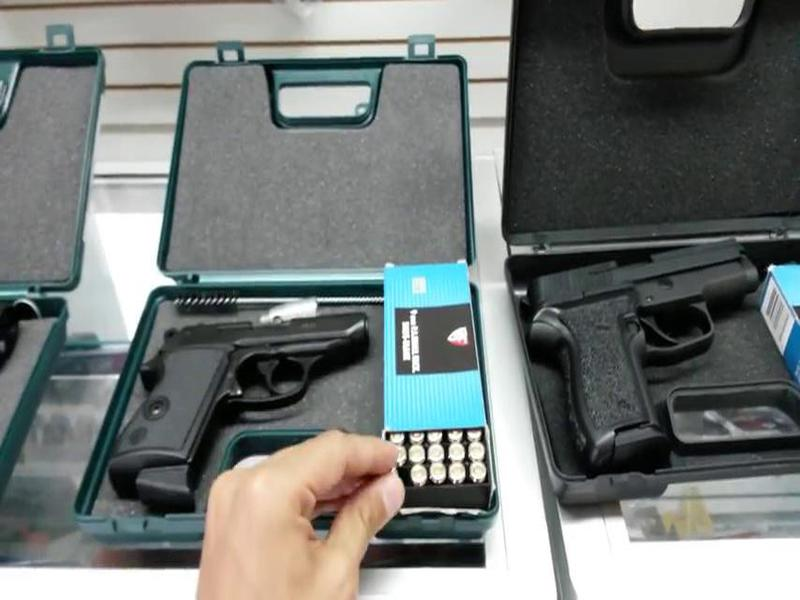Pistola: (519, 224, 769, 492)
